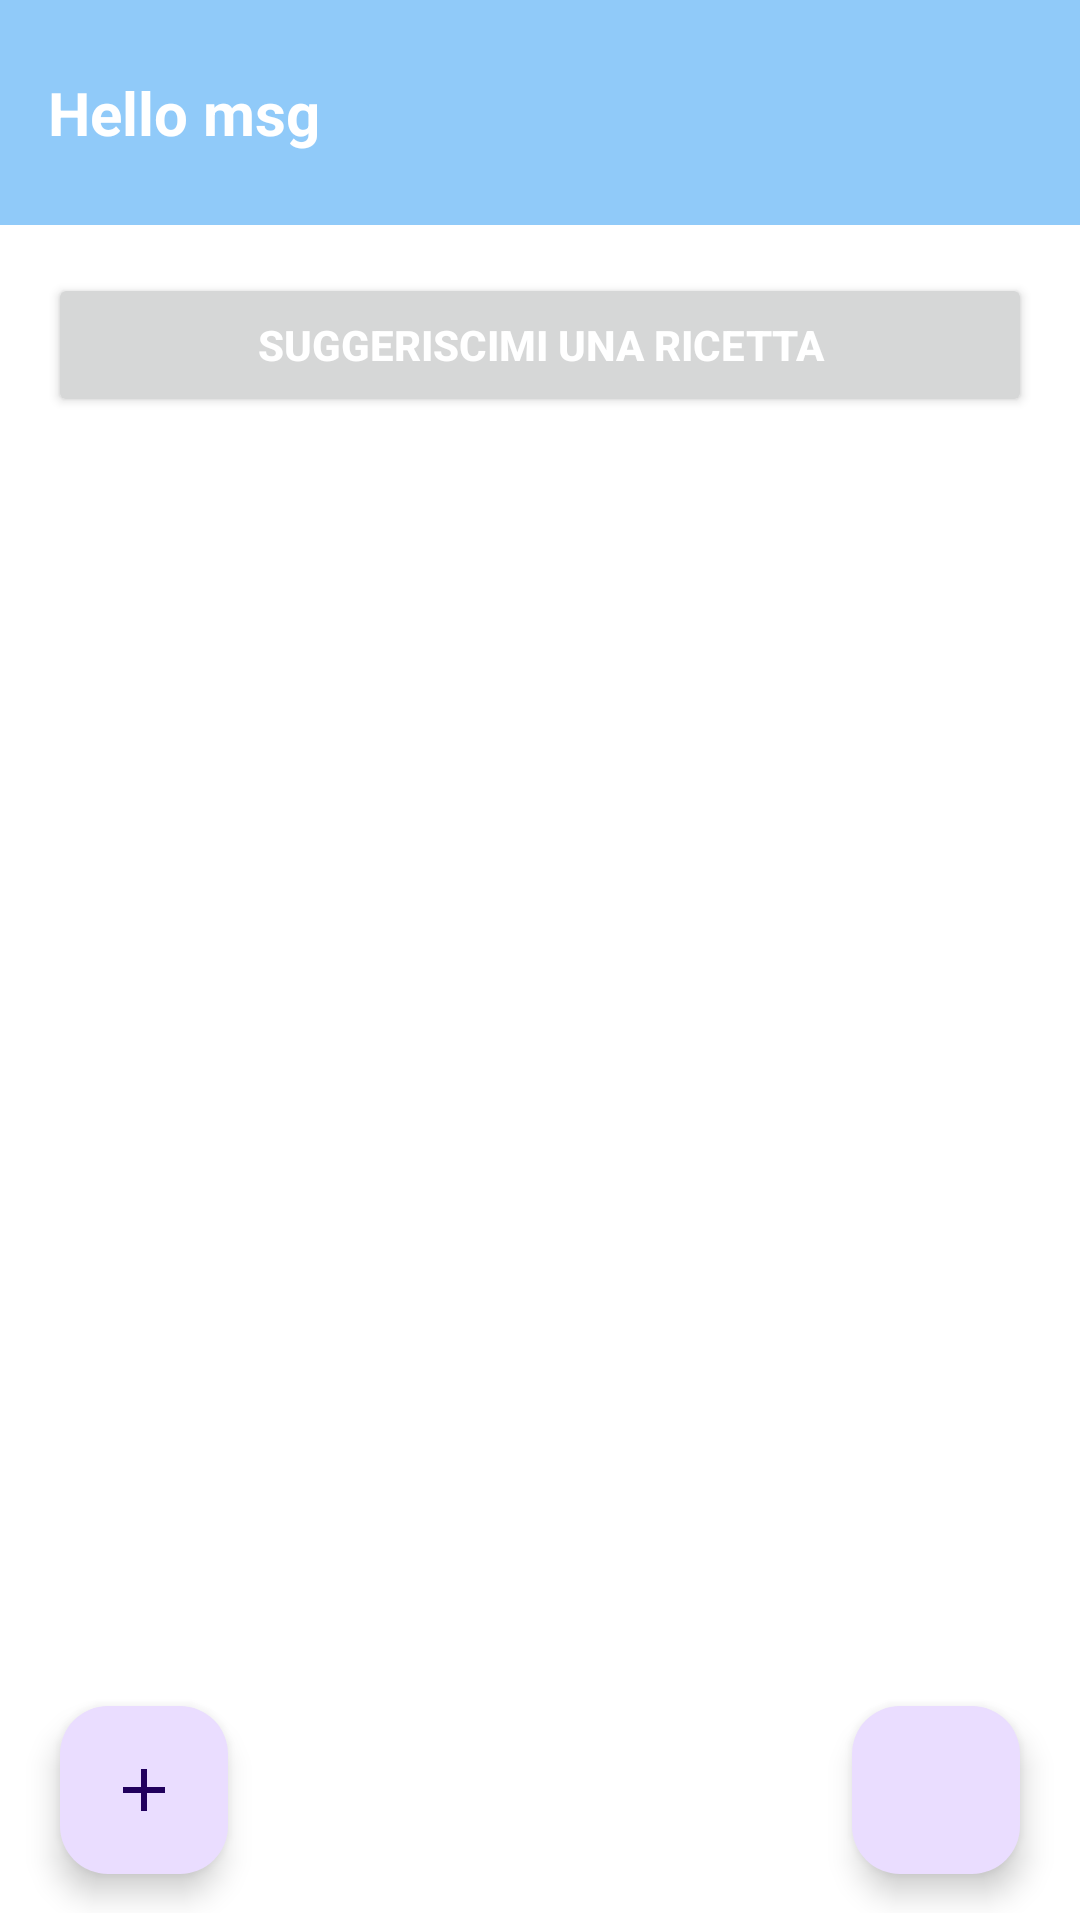

Screen size 1080w x 1920h. Icon name, then its center in pixels as (x,y):
Add Button: (144,1790)
